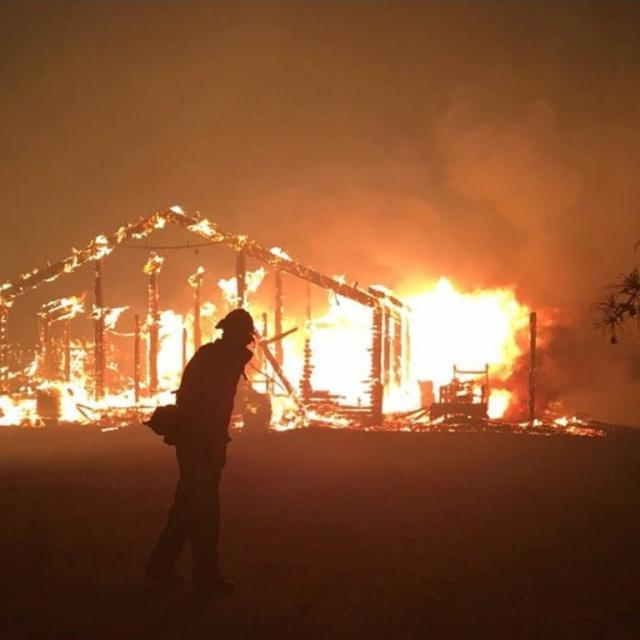Fire: (0, 197, 258, 437), (259, 269, 603, 442)
Smoke: (277, 93, 588, 270)
